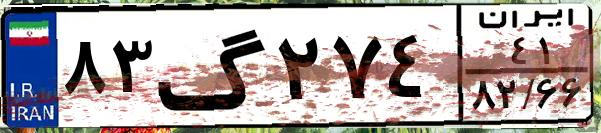1: (537, 27, 568, 80)
2: (270, 28, 330, 110), (495, 70, 520, 125)
3: (110, 28, 156, 98)
4: (385, 28, 445, 110), (508, 27, 537, 80)
6: (560, 70, 590, 125), (535, 70, 560, 125)
7: (330, 28, 385, 110)
8: (57, 26, 110, 100), (470, 70, 495, 125)
گ: (156, 12, 270, 120)
